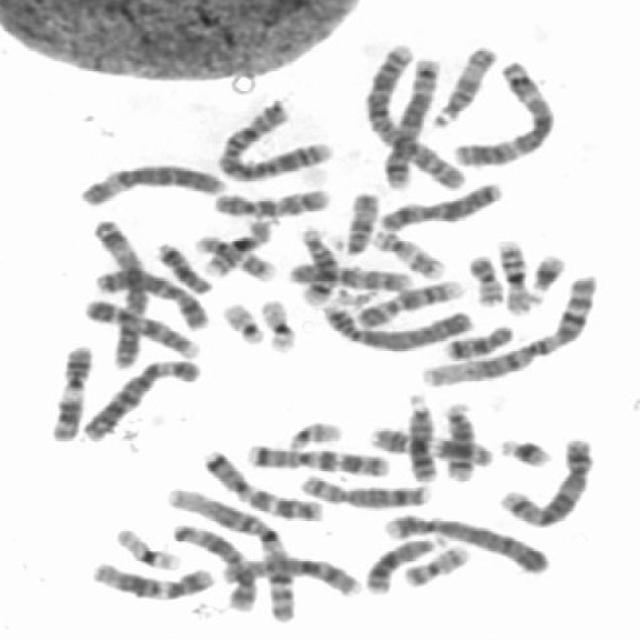A1: (413, 268, 604, 389), (164, 481, 300, 626)
A2: (357, 39, 468, 191), (213, 97, 337, 182)
A3: (447, 53, 559, 169), (86, 211, 151, 369)
B4: (377, 508, 553, 576), (314, 298, 478, 353)
B5: (491, 430, 597, 529), (377, 56, 440, 188)
C10: (208, 182, 335, 219), (282, 257, 414, 292)
C11: (363, 420, 498, 468), (42, 338, 95, 443)
C12: (168, 518, 260, 612), (84, 556, 218, 602)
C6: (76, 352, 206, 443), (74, 157, 228, 209)
C7: (198, 442, 328, 522), (240, 438, 393, 478)
C8: (212, 549, 368, 600), (294, 467, 436, 510)
C9: (78, 293, 204, 360), (348, 273, 466, 329)
D13: (360, 529, 450, 595), (401, 388, 442, 483)
D14: (294, 221, 341, 306), (437, 397, 479, 483)
D15: (428, 39, 502, 128), (333, 186, 381, 256)
E16: (198, 214, 278, 279), (492, 232, 537, 316)
E17: (189, 229, 279, 283), (366, 224, 448, 280)
E18: (150, 237, 215, 296), (439, 317, 518, 361)
F19: (109, 521, 185, 571), (255, 292, 300, 354)
F20: (396, 538, 472, 589), (463, 248, 507, 308)
G21: (494, 430, 557, 469), (523, 247, 569, 294)
G22: (216, 296, 268, 346), (282, 415, 346, 451)
X: (87, 263, 212, 331), (374, 176, 508, 233)
